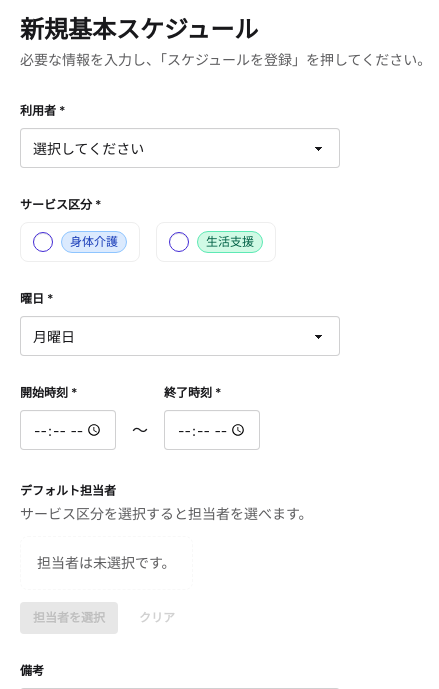
Test case: BasicScheduleForm (新規利用者登録) › 既存利用者を選択すると氏名入力フィールドが非表示になる
This screenshot has width=439, height=689.
// 新規利用者を選択
Select "➕ 新規利用者を登録" in the dropdown labelled "利用者 *" at (180, 148), box [20,128,340,168]
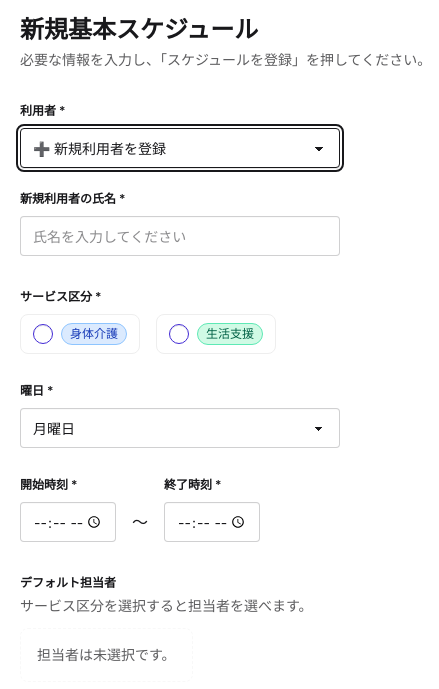
Expected: the field labelled "新規利用者の氏名 *" is shown, [20,216,340,256]
// 既存利用者を選択
Select "利用者A" in the dropdown labelled "利用者 *" at (180, 148), box [20,128,340,168]
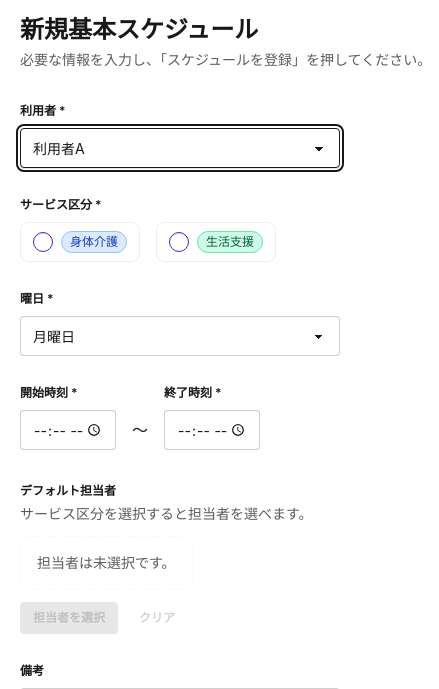
Expected: the text labelled "新規利用者の氏名 *" is gone
